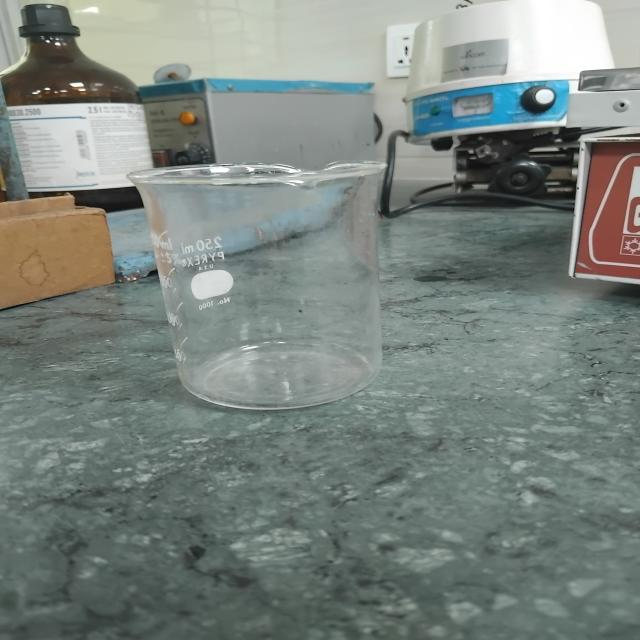Beaker: (111, 125, 428, 434)
